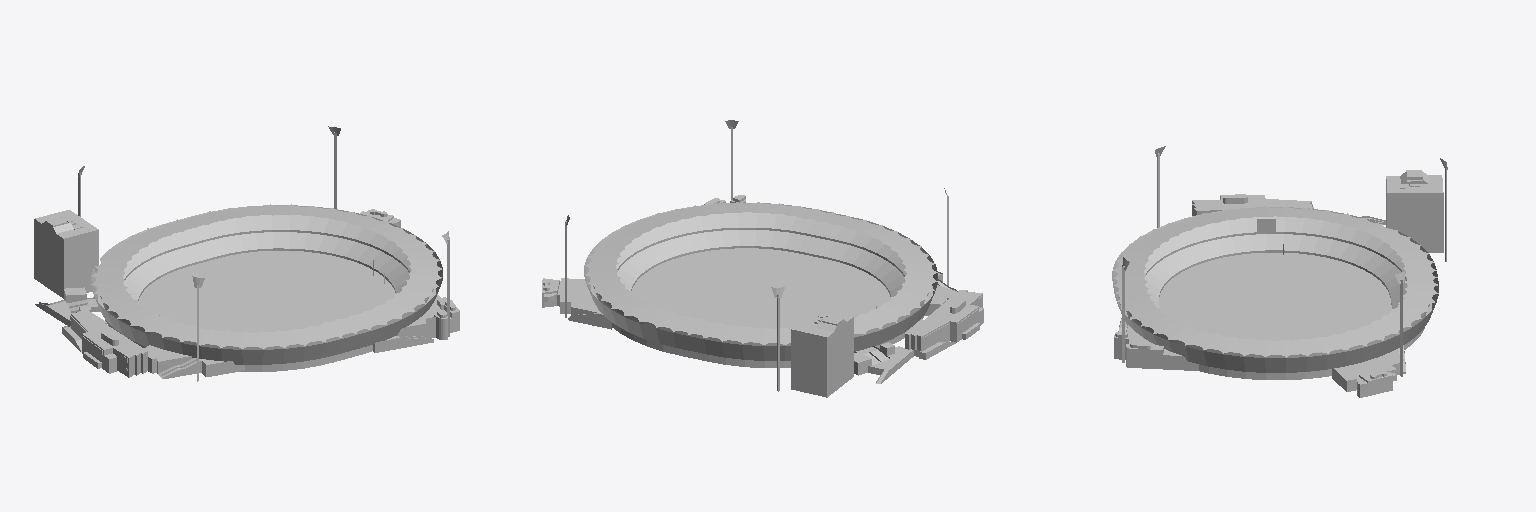
The model's file is Coliseo.obj.
The picture shows the model from 3 angles: view 1: azimuth 30°, elevation 25°; view 2: azimuth 150°, elevation 25°; view 3: azimuth 270°, elevation 25°; orthographic projection.
Visible parts, largest first — view 1: 3d-model; view 2: 3d-model; view 3: 3d-model.
Boxes of the visible parts, x1=… form: 3d-model: x1=34, y1=126, x2=459, y2=381; 3d-model: x1=542, y1=120, x2=983, y2=397; 3d-model: x1=1112, y1=146, x2=1447, y2=397.
Bounding box in the file's own units: 13.52 × 3.6 × 10.6.